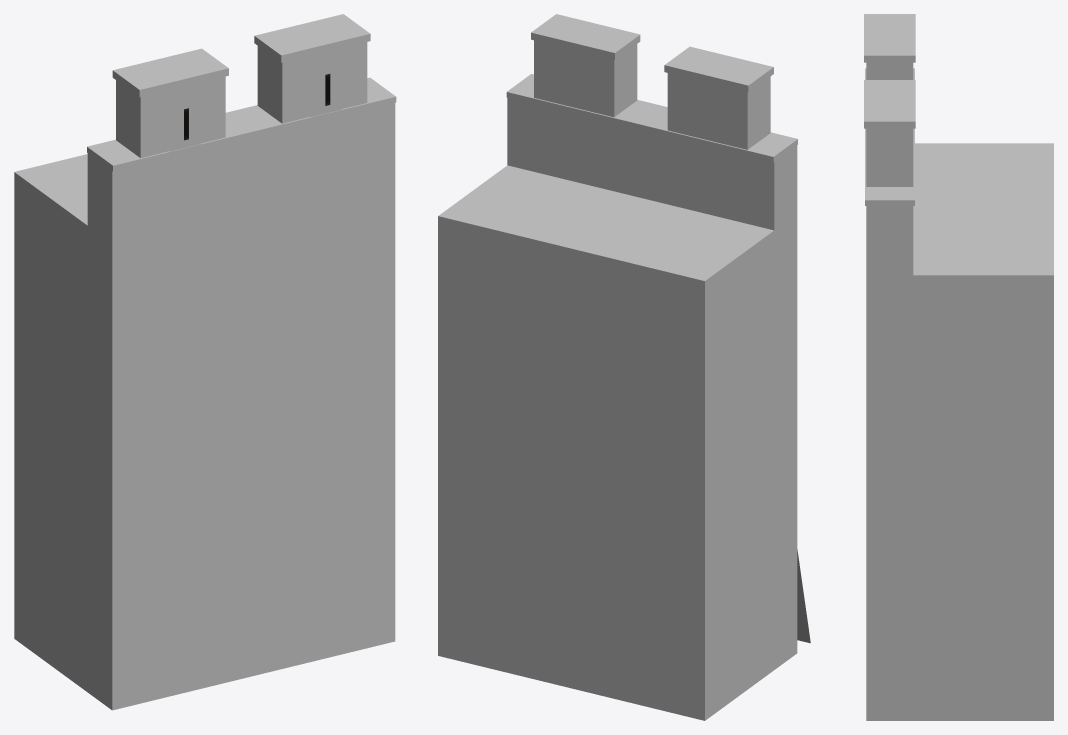
Rendered from SE_Curtain_Wall.glb.
3 views of the same model, side by side, from view 1: azimuth 30°, elevation 25°; view 2: azimuth 150°, elevation 25°; view 3: azimuth 270°, elevation 25° (orthographic). The views are drawn at different scales.
Parts seen in each view (by area): view 1: SE_Curtain_Wall; view 2: SE_Curtain_Wall; view 3: SE_Curtain_Wall.
Boxes of the visible parts, x1,y1,x2,y2 form: SE_Curtain_Wall: (14,14,396,710); SE_Curtain_Wall: (438,14,810,720); SE_Curtain_Wall: (864,14,1053,720).
Size of the model in its own units: 4 by 8.3 by 2.75.
